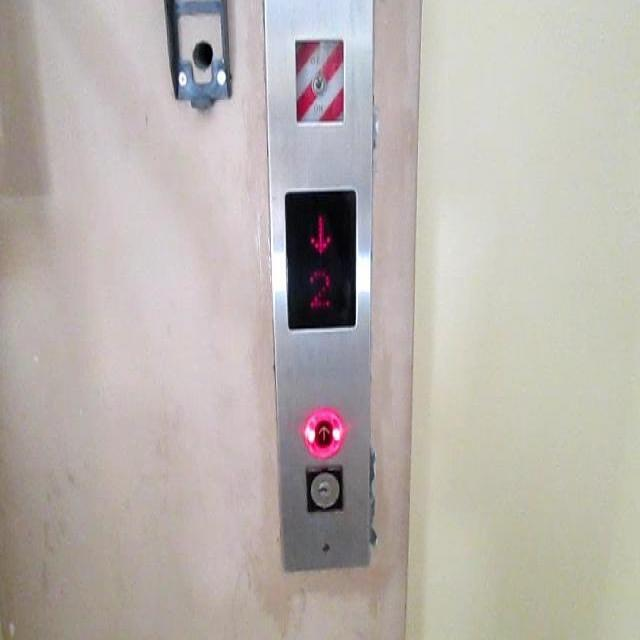keyhole: (302, 463, 344, 512)
led: (280, 184, 363, 335)
switch: (305, 60, 332, 103)
up: (301, 404, 348, 460)
